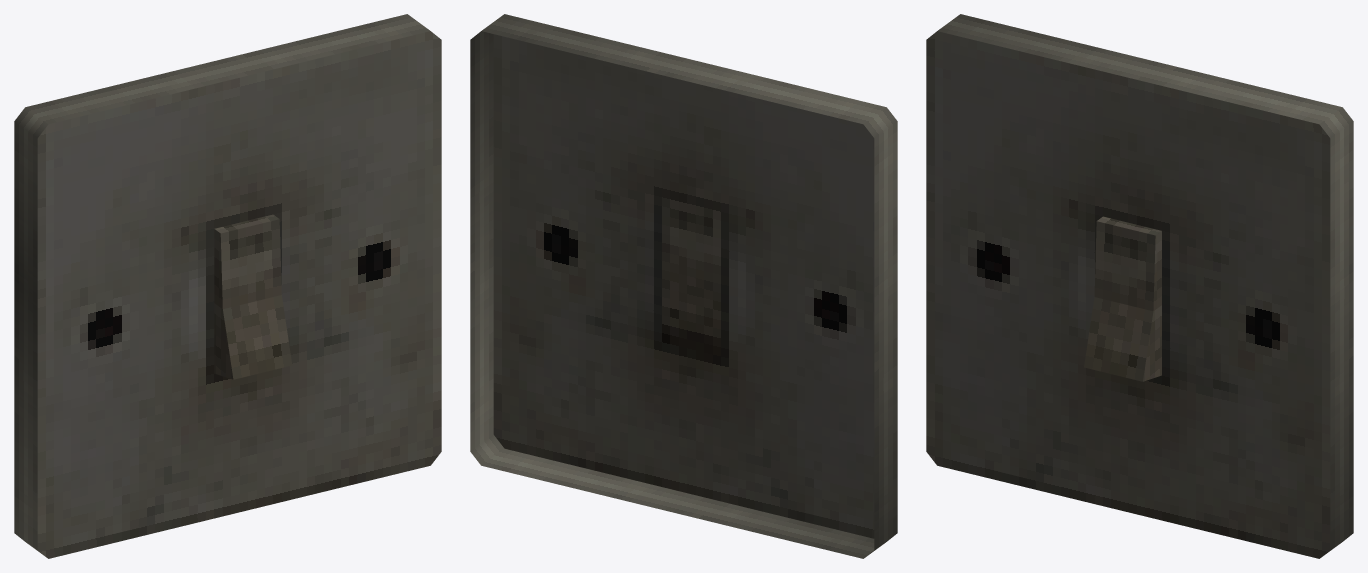
Rendered from LightSwitch11.glb.
The picture shows the model from 3 angles, left to right: view 1: azimuth 30°, elevation 25°; view 2: azimuth 150°, elevation 25°; view 3: azimuth 330°, elevation 25°; orthographic projection.
Parts seen in each view (by area): view 1: light_switch_1_1; view 2: light_switch_1_1; view 3: light_switch_1_1.
Boxes of the visible parts, left/top/right/bottom form: light_switch_1_1: left=14, top=14, right=441, bottom=558; light_switch_1_1: left=470, top=14, right=897, bottom=558; light_switch_1_1: left=926, top=14, right=1353, bottom=558.
Bounding box in the file's own units: 0.11 × 0.113 × 0.02.
1 material, 1 textured.
